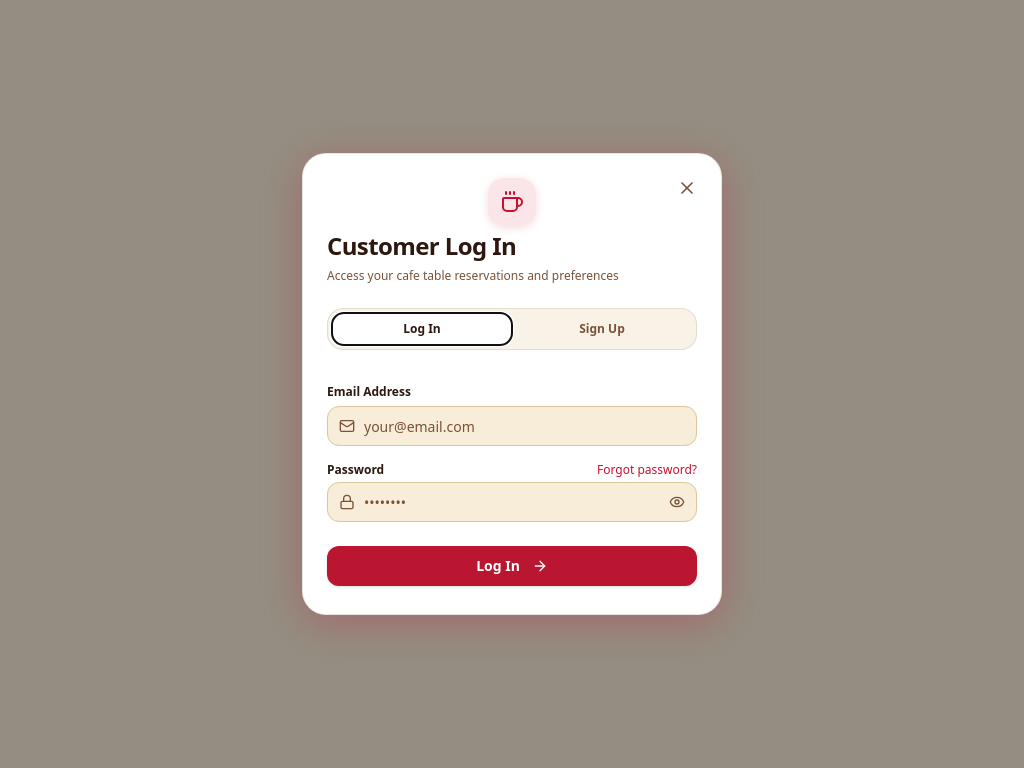
Scenario: CustomerAuthModal › resetting a forgotten password › can go back to log in
What coordinates should you click on to do the following:
click the button "Forgot password?"
I would click on:
 (647, 470)
Its box is [597,462,697,478].
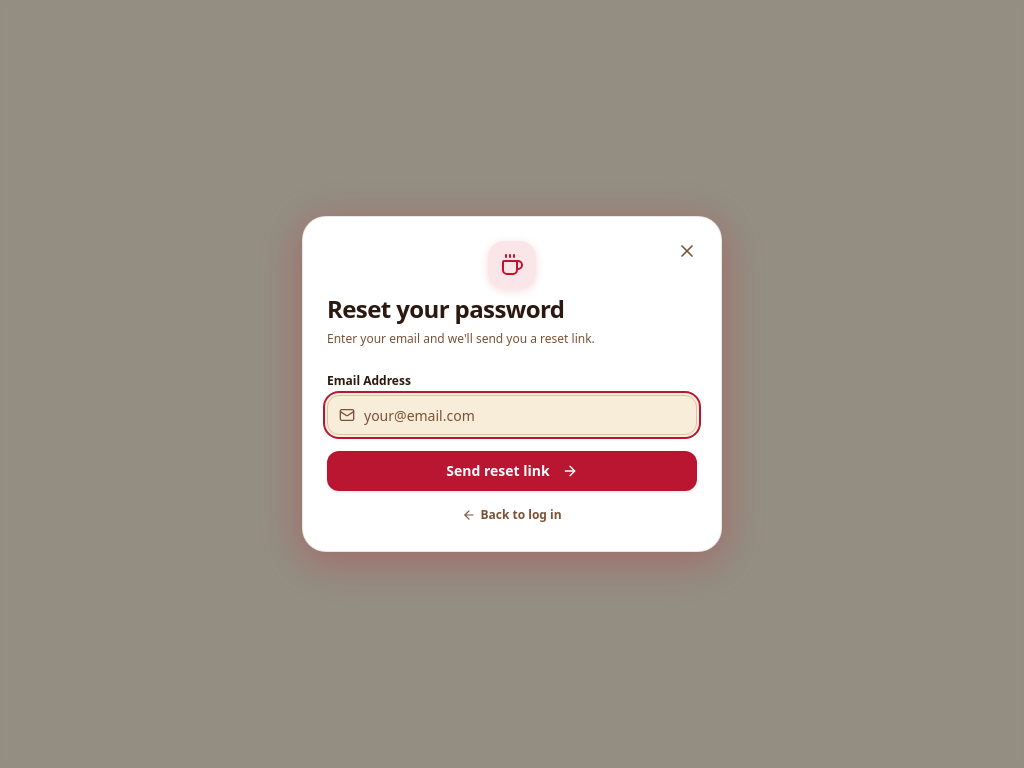
What coordinates should you click on to do the following:
click the button "Back to log in"
I would click on:
 (512, 515)
Its box is [462,507,562,523].
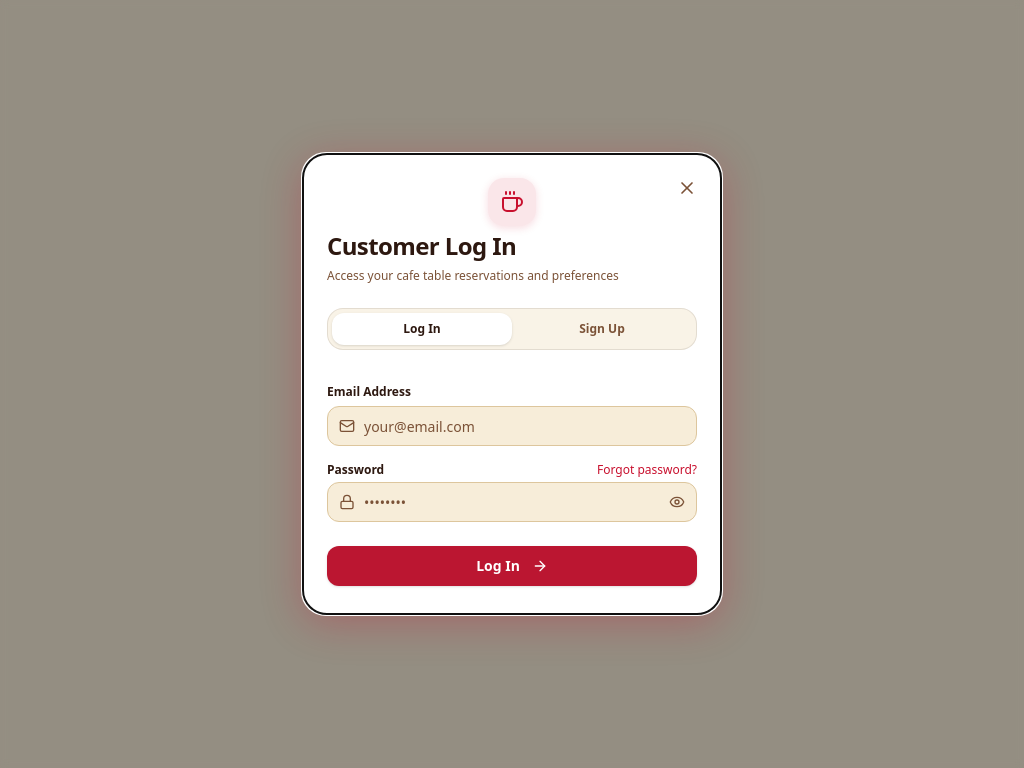
Now the button "Log In" below "Email Address" is shown, box [327,546,697,586]
